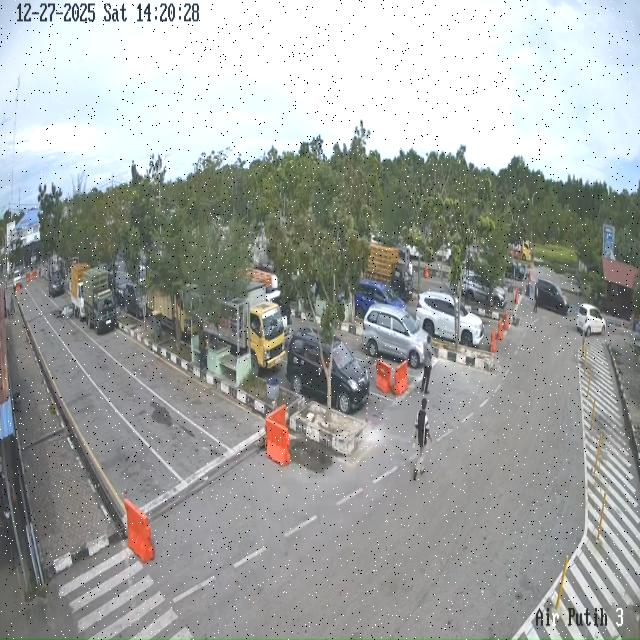Golongan IVA: (286, 327, 370, 414), (362, 304, 428, 369), (416, 291, 484, 347), (354, 279, 406, 320), (462, 271, 507, 308), (536, 279, 570, 315), (577, 303, 606, 336), (124, 281, 144, 319), (48, 272, 65, 297)
Golongan IVB: (83, 267, 117, 334), (70, 263, 90, 321)
Golongan VB: (202, 282, 286, 374)
